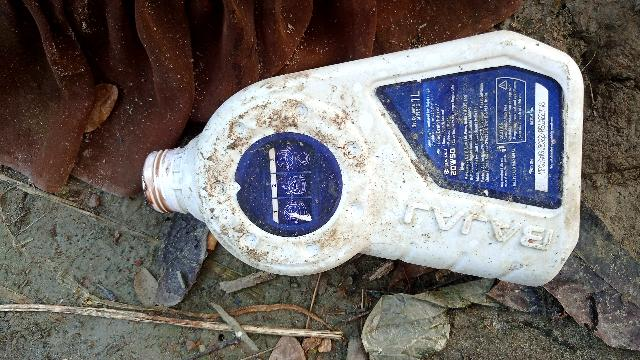bottle: (179, 25, 582, 282)
